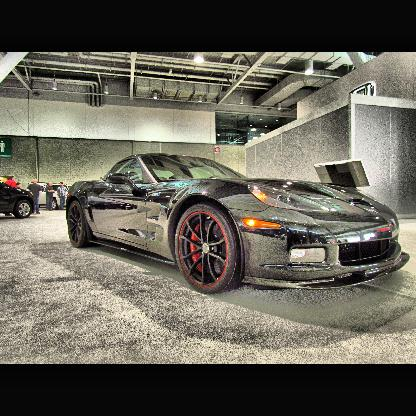Chevrolet Corvette ZR1 2012: (66, 148, 413, 299)
